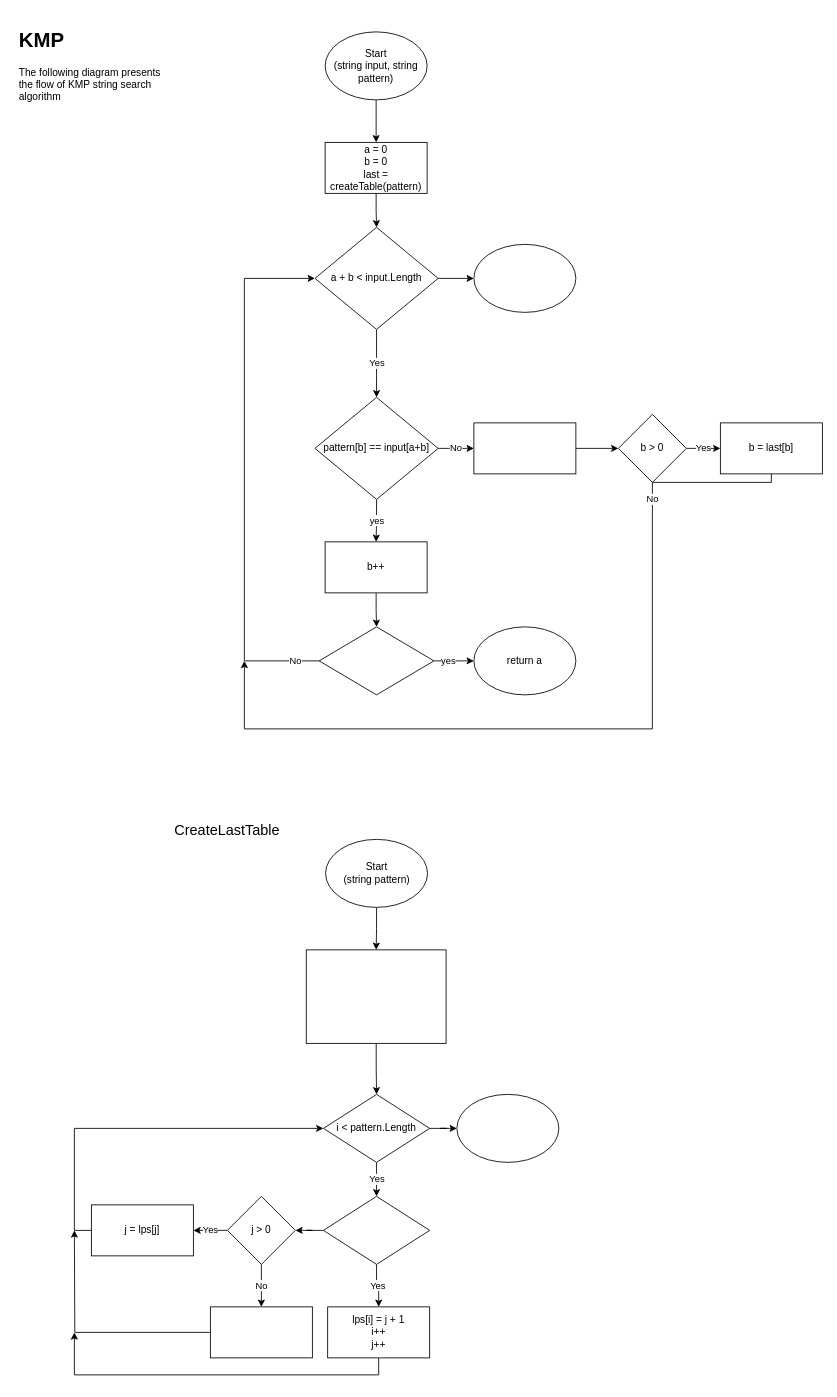
This 837x1397 diagram has some shape labels left out. Here are the shapes that lost their labels. From the top down, the box of each, then its label:
(473, 244, 576, 312): return NotFound
(473, 422, 576, 474): a = a + b - last[b]
(318, 626, 434, 695): b == pattern.Length
(305, 949, 446, 1043): i = 2 j = 0 lps = int[pattern.Length] lps[0] = -1 lps[1] = 0
(456, 1094, 559, 1162): return lps
(323, 1196, 430, 1264): pattern[i-1] == pattern[j]
(210, 1306, 312, 1358): lps[i] = 0 i++
